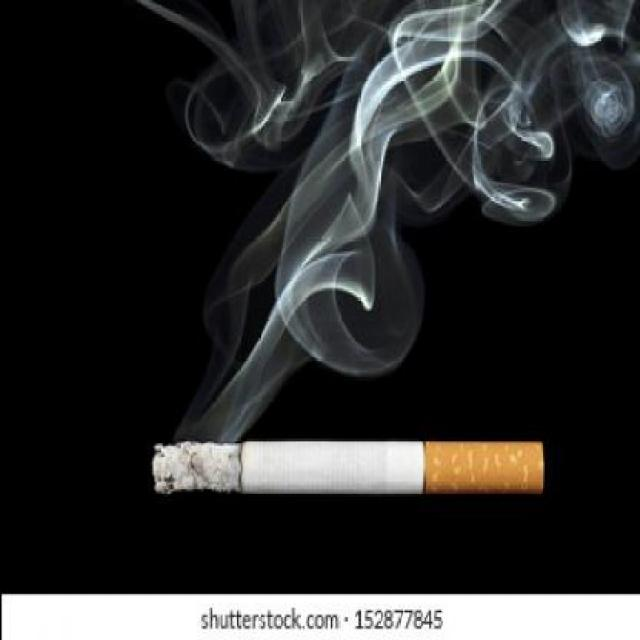cigarette: (129, 413, 553, 515)
